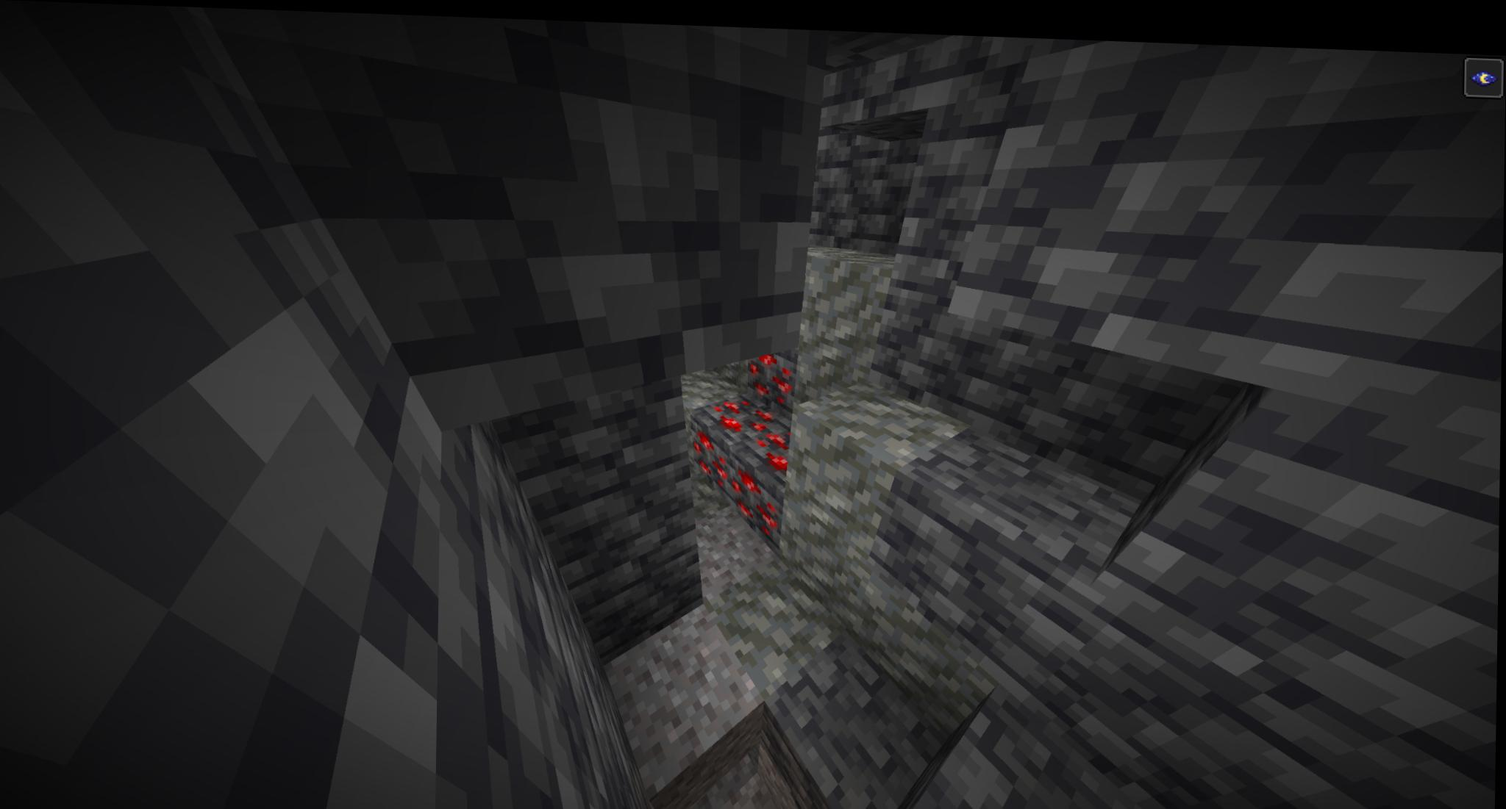redstone ore: (726, 467, 779, 533), (744, 341, 801, 398), (709, 392, 774, 432), (692, 428, 731, 483)
